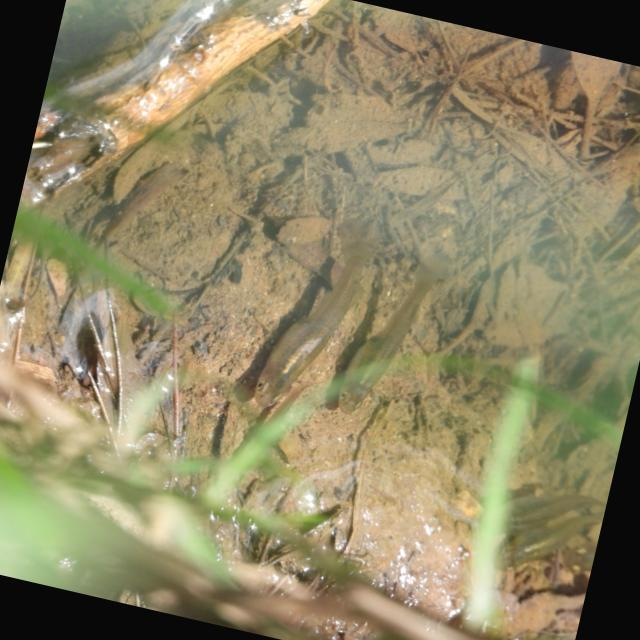Sivrisinek Baligi: (246, 198, 390, 429), (327, 232, 463, 424)
